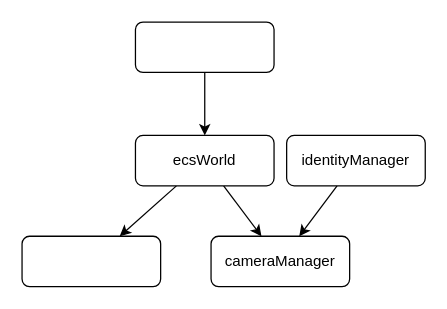
Image size: 447x309. Some labels were removed from this diagram. Each missing label, with the box of its shape:
rapier: (134, 21, 274, 72)
worldDoc: (21, 235, 161, 287)
